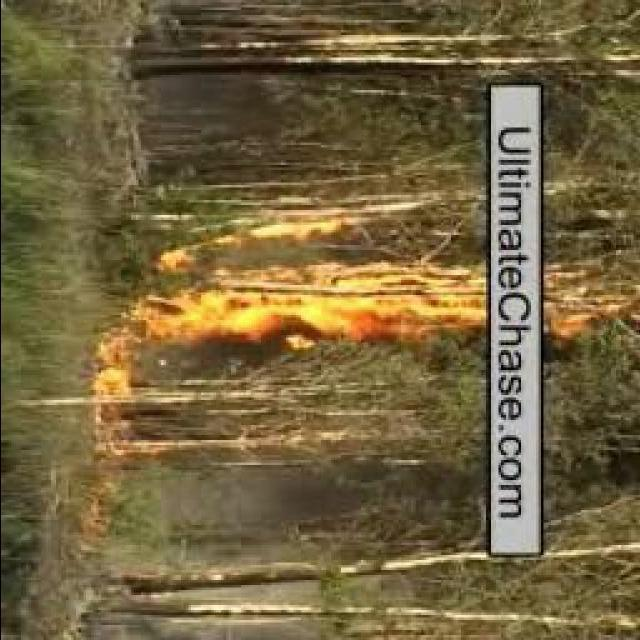Fire: (90, 200, 369, 440), (397, 249, 473, 352), (556, 280, 630, 342)
